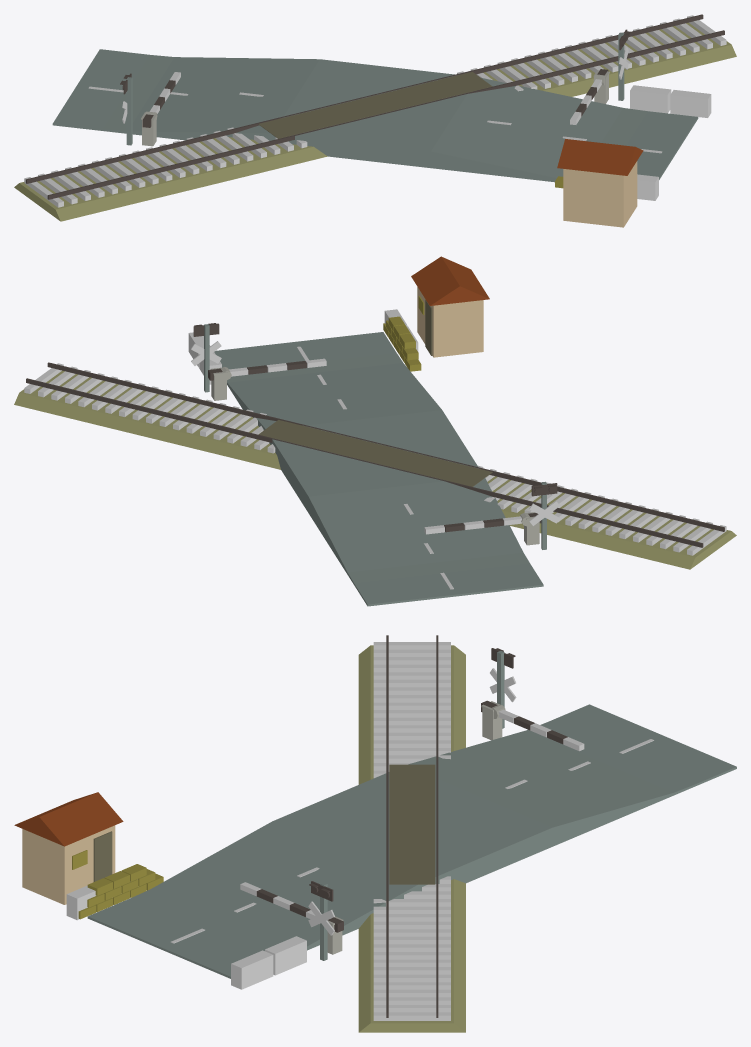
File: SM_PasoNivel_45_v3_Militar_LOD0.fbx
The picture shows the model from 3 angles, top to bottom: view 1: azimuth 30°, elevation 25°; view 2: azimuth 150°, elevation 25°; view 3: azimuth 270°, elevation 25°; orthographic projection. The views are drawn at different scales.
Parts seen in each view (by area): view 1: SM_paso_nivel_kit_v13_LOD0, Barrera_1, Barrera_2; view 2: SM_paso_nivel_kit_v13_LOD0, Barrera_1, Barrera_2; view 3: SM_paso_nivel_kit_v13_LOD0, Barrera_2, Barrera_1.
Part boxes in pixels (x1,y1,x2,y2): SM_paso_nivel_kit_v13_LOD0: [14, 14, 736, 227]; Barrera_1: [570, 69, 608, 124]; Barrera_2: [142, 72, 180, 127]; SM_paso_nivel_kit_v13_LOD0: [14, 256, 736, 606]; Barrera_1: [208, 358, 326, 380]; Barrera_2: [424, 512, 541, 534]; SM_paso_nivel_kit_v13_LOD0: [14, 635, 736, 1032]; Barrera_2: [481, 700, 584, 751]; Barrera_1: [240, 882, 343, 932].
Size of the model in its own units: 30 by 3 by 24.25.
